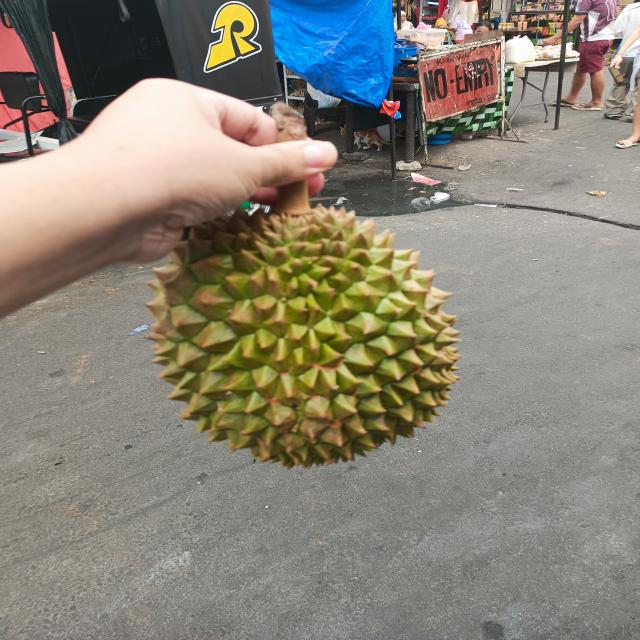mature: (141, 218, 447, 458)
